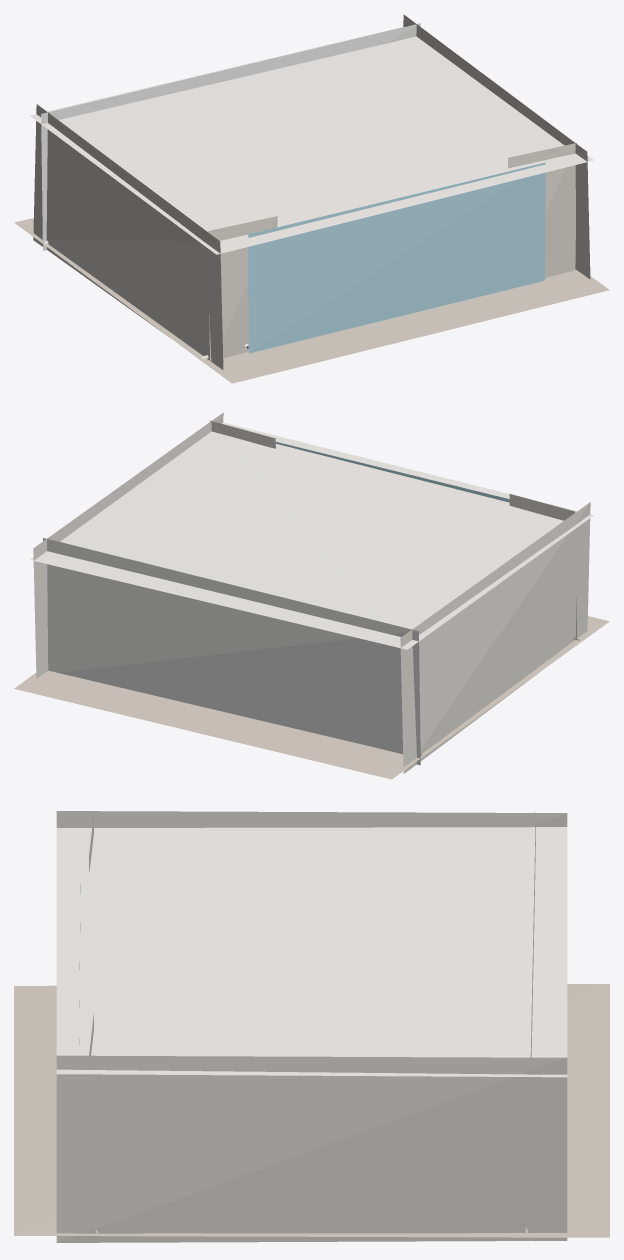
File: meeting_room_shell-2-web.glb
The picture shows the model from 3 angles, top to bottom: view 1: azimuth 30°, elevation 25°; view 2: azimuth 150°, elevation 25°; view 3: azimuth 270°, elevation 25°; orthographic projection. The views are drawn at different scales.
Bounding box in the file's own units: 14 × 4.8 × 14.
